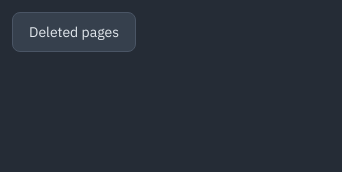
Test: DeletedPages list (BOS-2197) › shows an error when the list can't load
Click the button "Deleted pages".
click(74, 32)  # box [12,12,136,52]
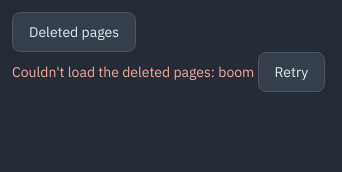
Check: the message shows "Couldn't load the deleted pages", box [12,52,325,92]
